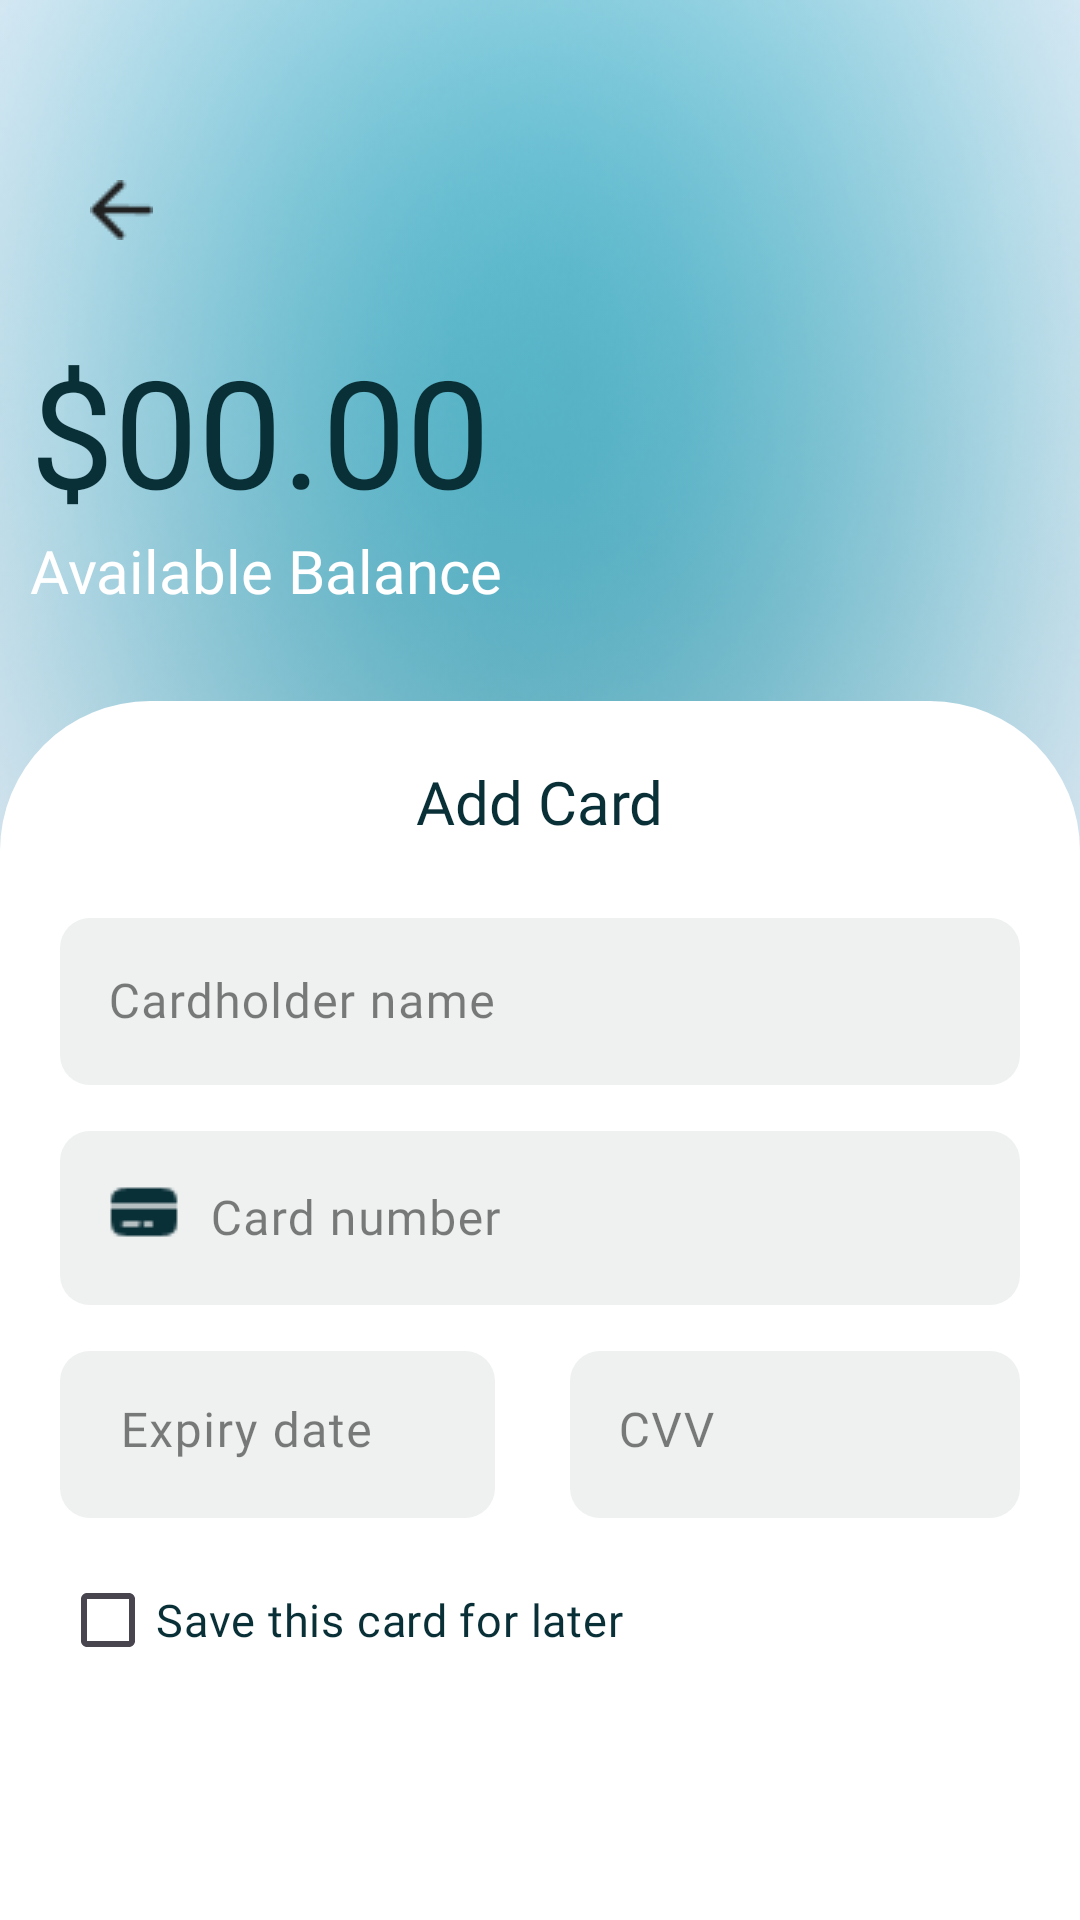

Icon click points for this 1080px×1920px phone screenshot, format [x,y]:
back: [121,210]
